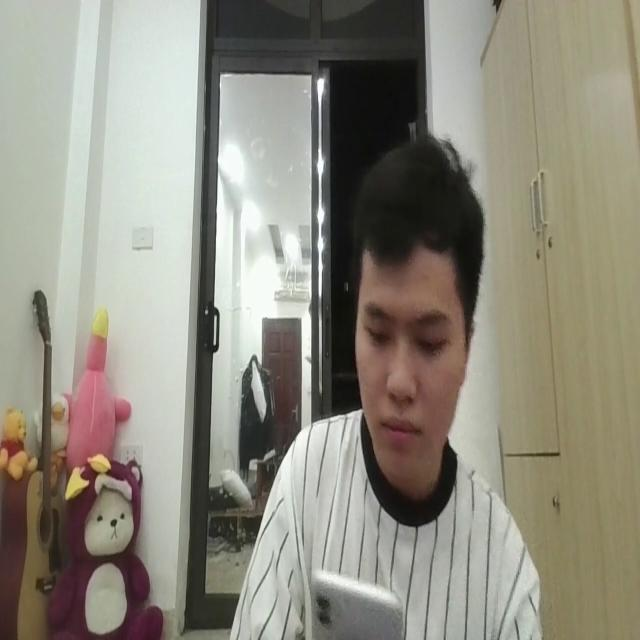phone: (310, 560, 406, 640)
student: (226, 132, 536, 640)
